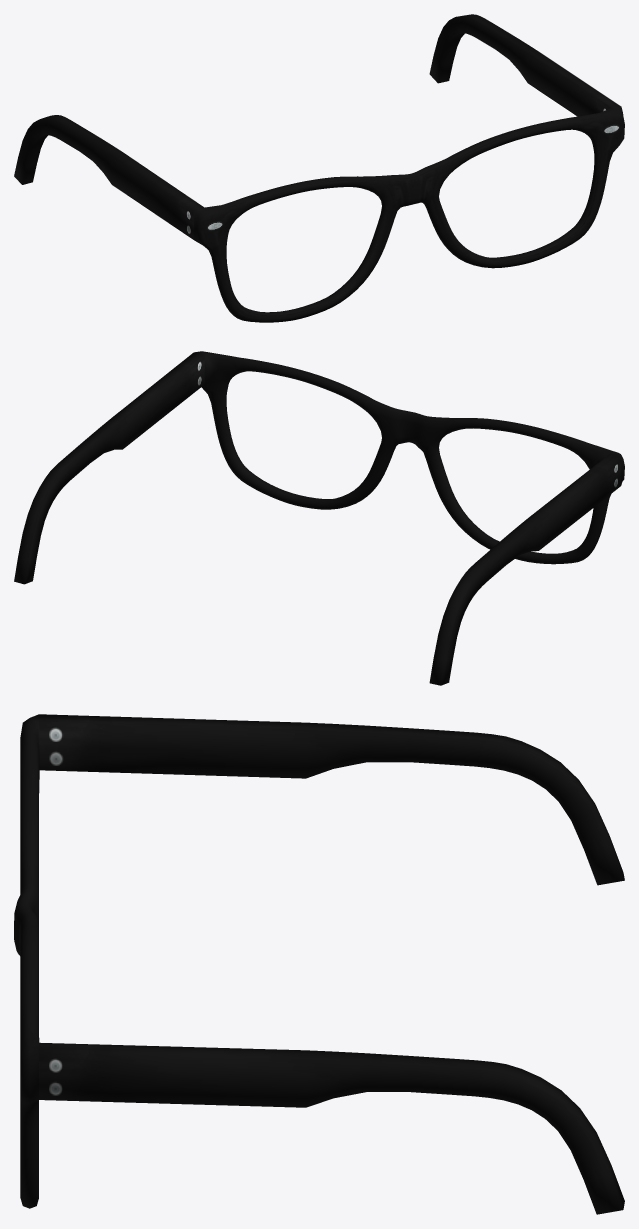
Rendered from glass2.glb.
3 renders of one model, top to bottom at view 1: azimuth 30°, elevation 25°; view 2: azimuth 150°, elevation 25°; view 3: azimuth 270°, elevation 25°, orthographic. The views are drawn at different scales.
Visible parts, largest first — view 1: Glasses; view 2: Glasses; view 3: Glasses.
Boxes of the visible parts, x1,y1,x2,y2 form: Glasses: (14, 14, 624, 322); Glasses: (14, 351, 624, 685); Glasses: (14, 714, 624, 1214).
Bounding box in the file's own units: 2.1 × 0.6346 × 1.6.
1 material, 1 textured.
